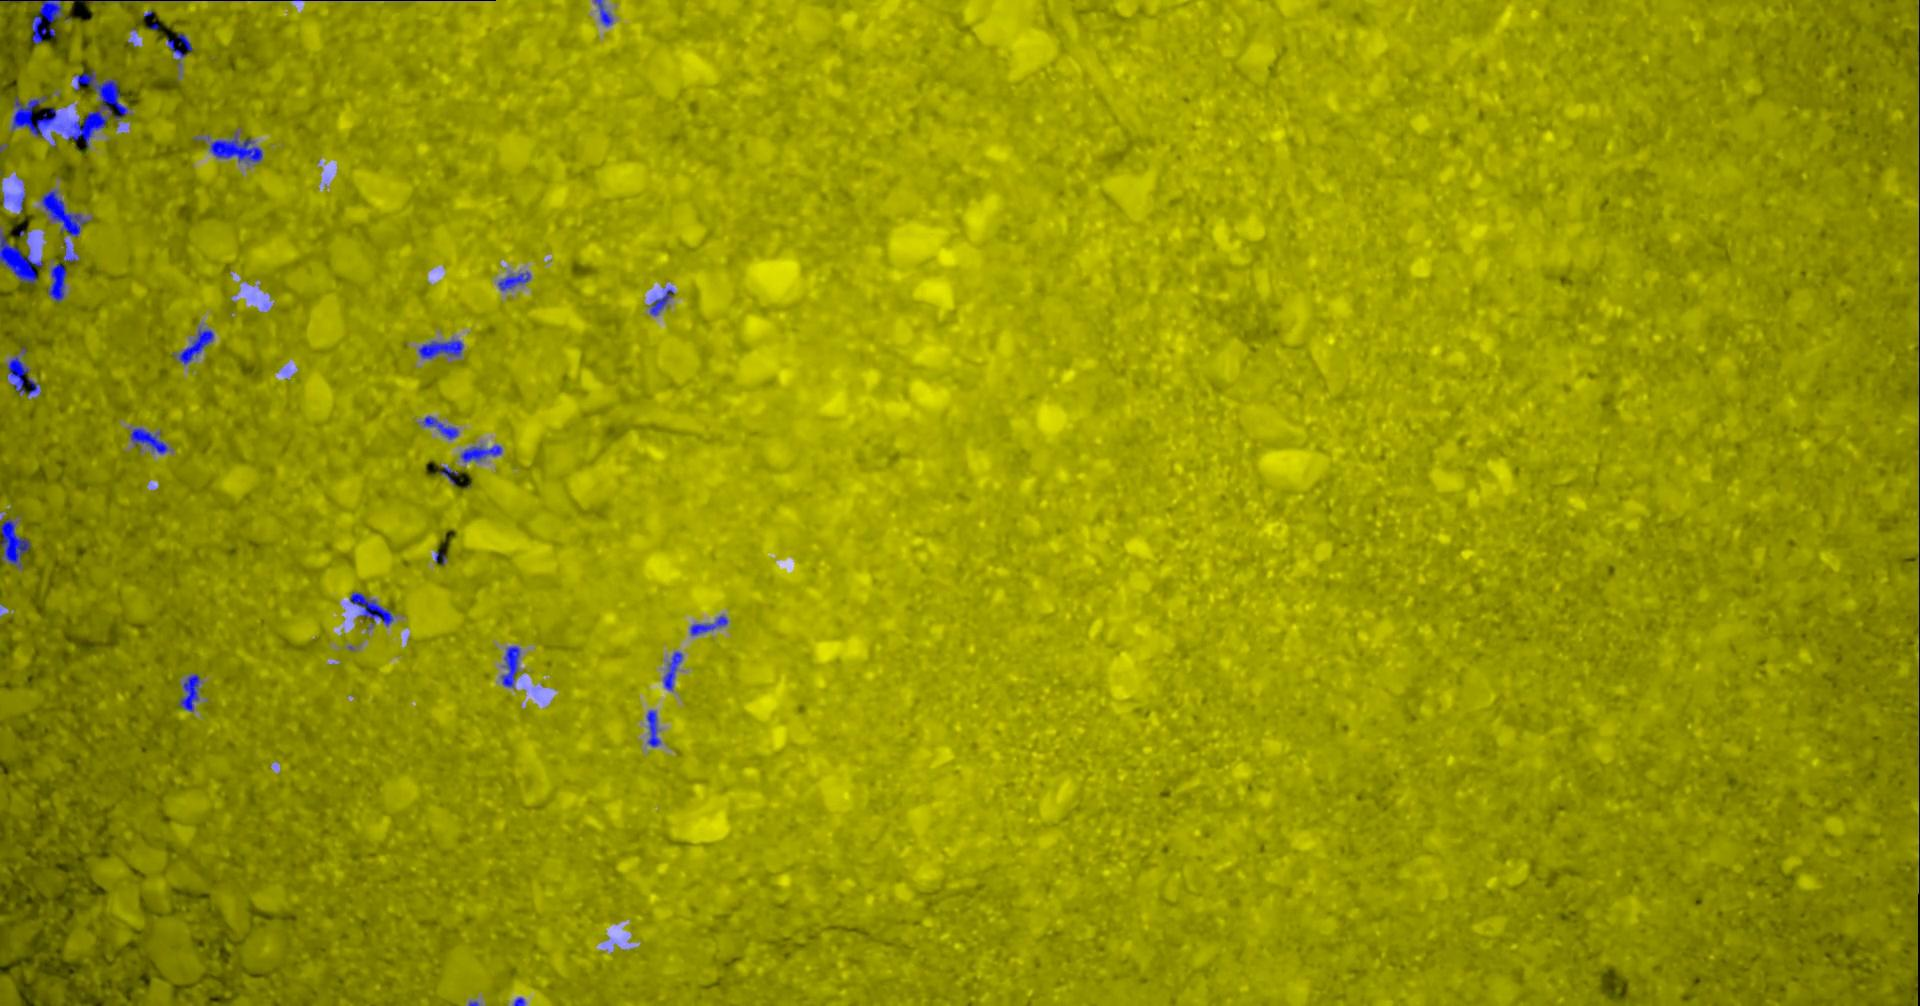ant: (0, 231, 43, 283), (41, 189, 88, 236), (210, 131, 262, 163), (171, 326, 213, 365), (349, 591, 392, 627), (0, 520, 30, 568), (30, 0, 63, 44), (6, 354, 41, 395), (130, 427, 168, 453), (418, 338, 463, 358), (422, 415, 458, 439), (166, 33, 192, 67), (177, 673, 199, 711), (500, 645, 521, 687), (47, 263, 67, 302), (690, 615, 728, 635), (662, 652, 682, 690), (460, 445, 502, 461), (649, 288, 674, 315), (497, 271, 530, 290), (646, 710, 660, 746), (594, 0, 612, 25), (62, 239, 77, 260), (439, 466, 457, 484)
